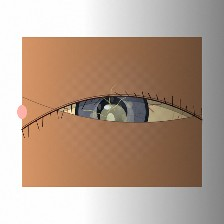corneal_ulcer: (91, 100, 135, 135)
